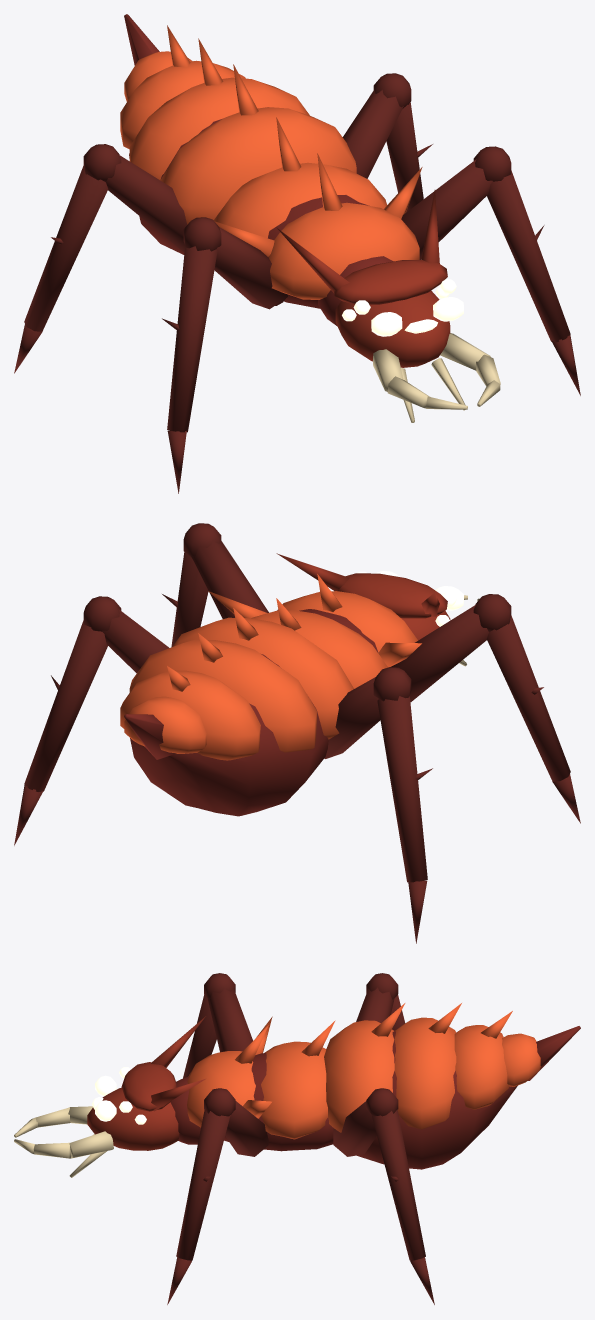
File: runner.fbx
3 renders of one model, top to bottom at view 1: azimuth 30°, elevation 25°; view 2: azimuth 150°, elevation 25°; view 3: azimuth 270°, elevation 25°, orthographic. The views are drawn at different scales.
Parts seen in each view (by area): view 1: Shell, Head, LegFL, LegFR, LegBL, LegBR, Mandibles, Flesh, Eyes; view 2: Shell, Flesh, LegFL, LegBL, LegBR, LegFR, Head, Eyes; view 3: Shell, Flesh, LegFR, LegBR, Head, LegFL, Mandibles, LegBL, Eyes.
Part boxes in pixels (<box>): Shell: <box>120,25,422,299</box>; Head: <box>276,190,450,367</box>; LegFL: <box>162,217,287,493</box>; LegFR: <box>401,146,580,395</box>; LegBL: <box>14,144,186,373</box>; LegBR: <box>342,73,432,212</box>; Mandibles: <box>373,333,500,422</box>; Flesh: <box>124,14,393,326</box>; Eyes: <box>342,279,463,336</box>; Shell: <box>120,574,421,760</box>; Flesh: <box>124,609,378,816</box>; LegFL: <box>390,594,580,823</box>; LegBL: <box>324,667,432,943</box>; LegBR: <box>14,596,169,845</box>; LegFR: <box>162,523,268,647</box>; Head: <box>276,553,450,640</box>; Eyes: <box>357,571,463,626</box>; Shell: <box>187,1003,541,1139</box>; Flesh: <box>170,1026,580,1169</box>; LegFR: <box>167,1088,268,1304</box>; LegBR: <box>333,1088,434,1304</box>; Head: <box>87,1016,205,1150</box>; LegFL: <box>183,973,252,1078</box>; Mandibles: <box>14,1106,113,1177</box>; LegBL: <box>356,973,404,1030</box>; Eyes: <box>91,1067,146,1124</box>.
Size of the model in its own units: 4.3 by 2.81 by 6.46.
